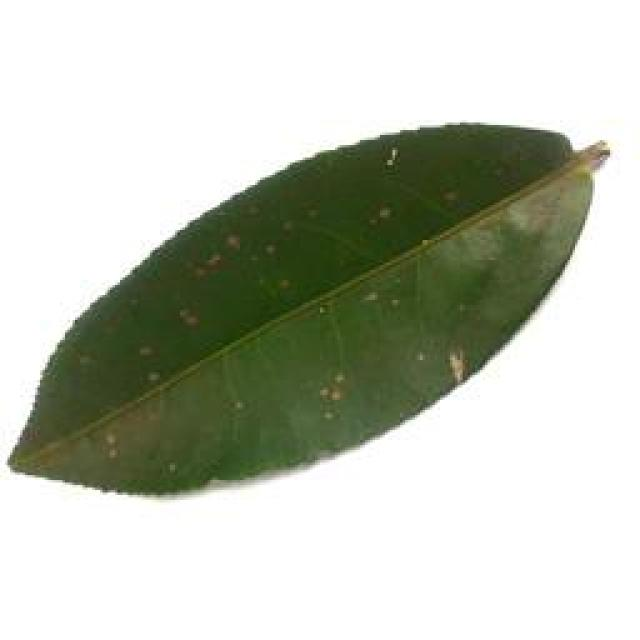Algal Leaf Spot: (20, 122, 564, 479)
